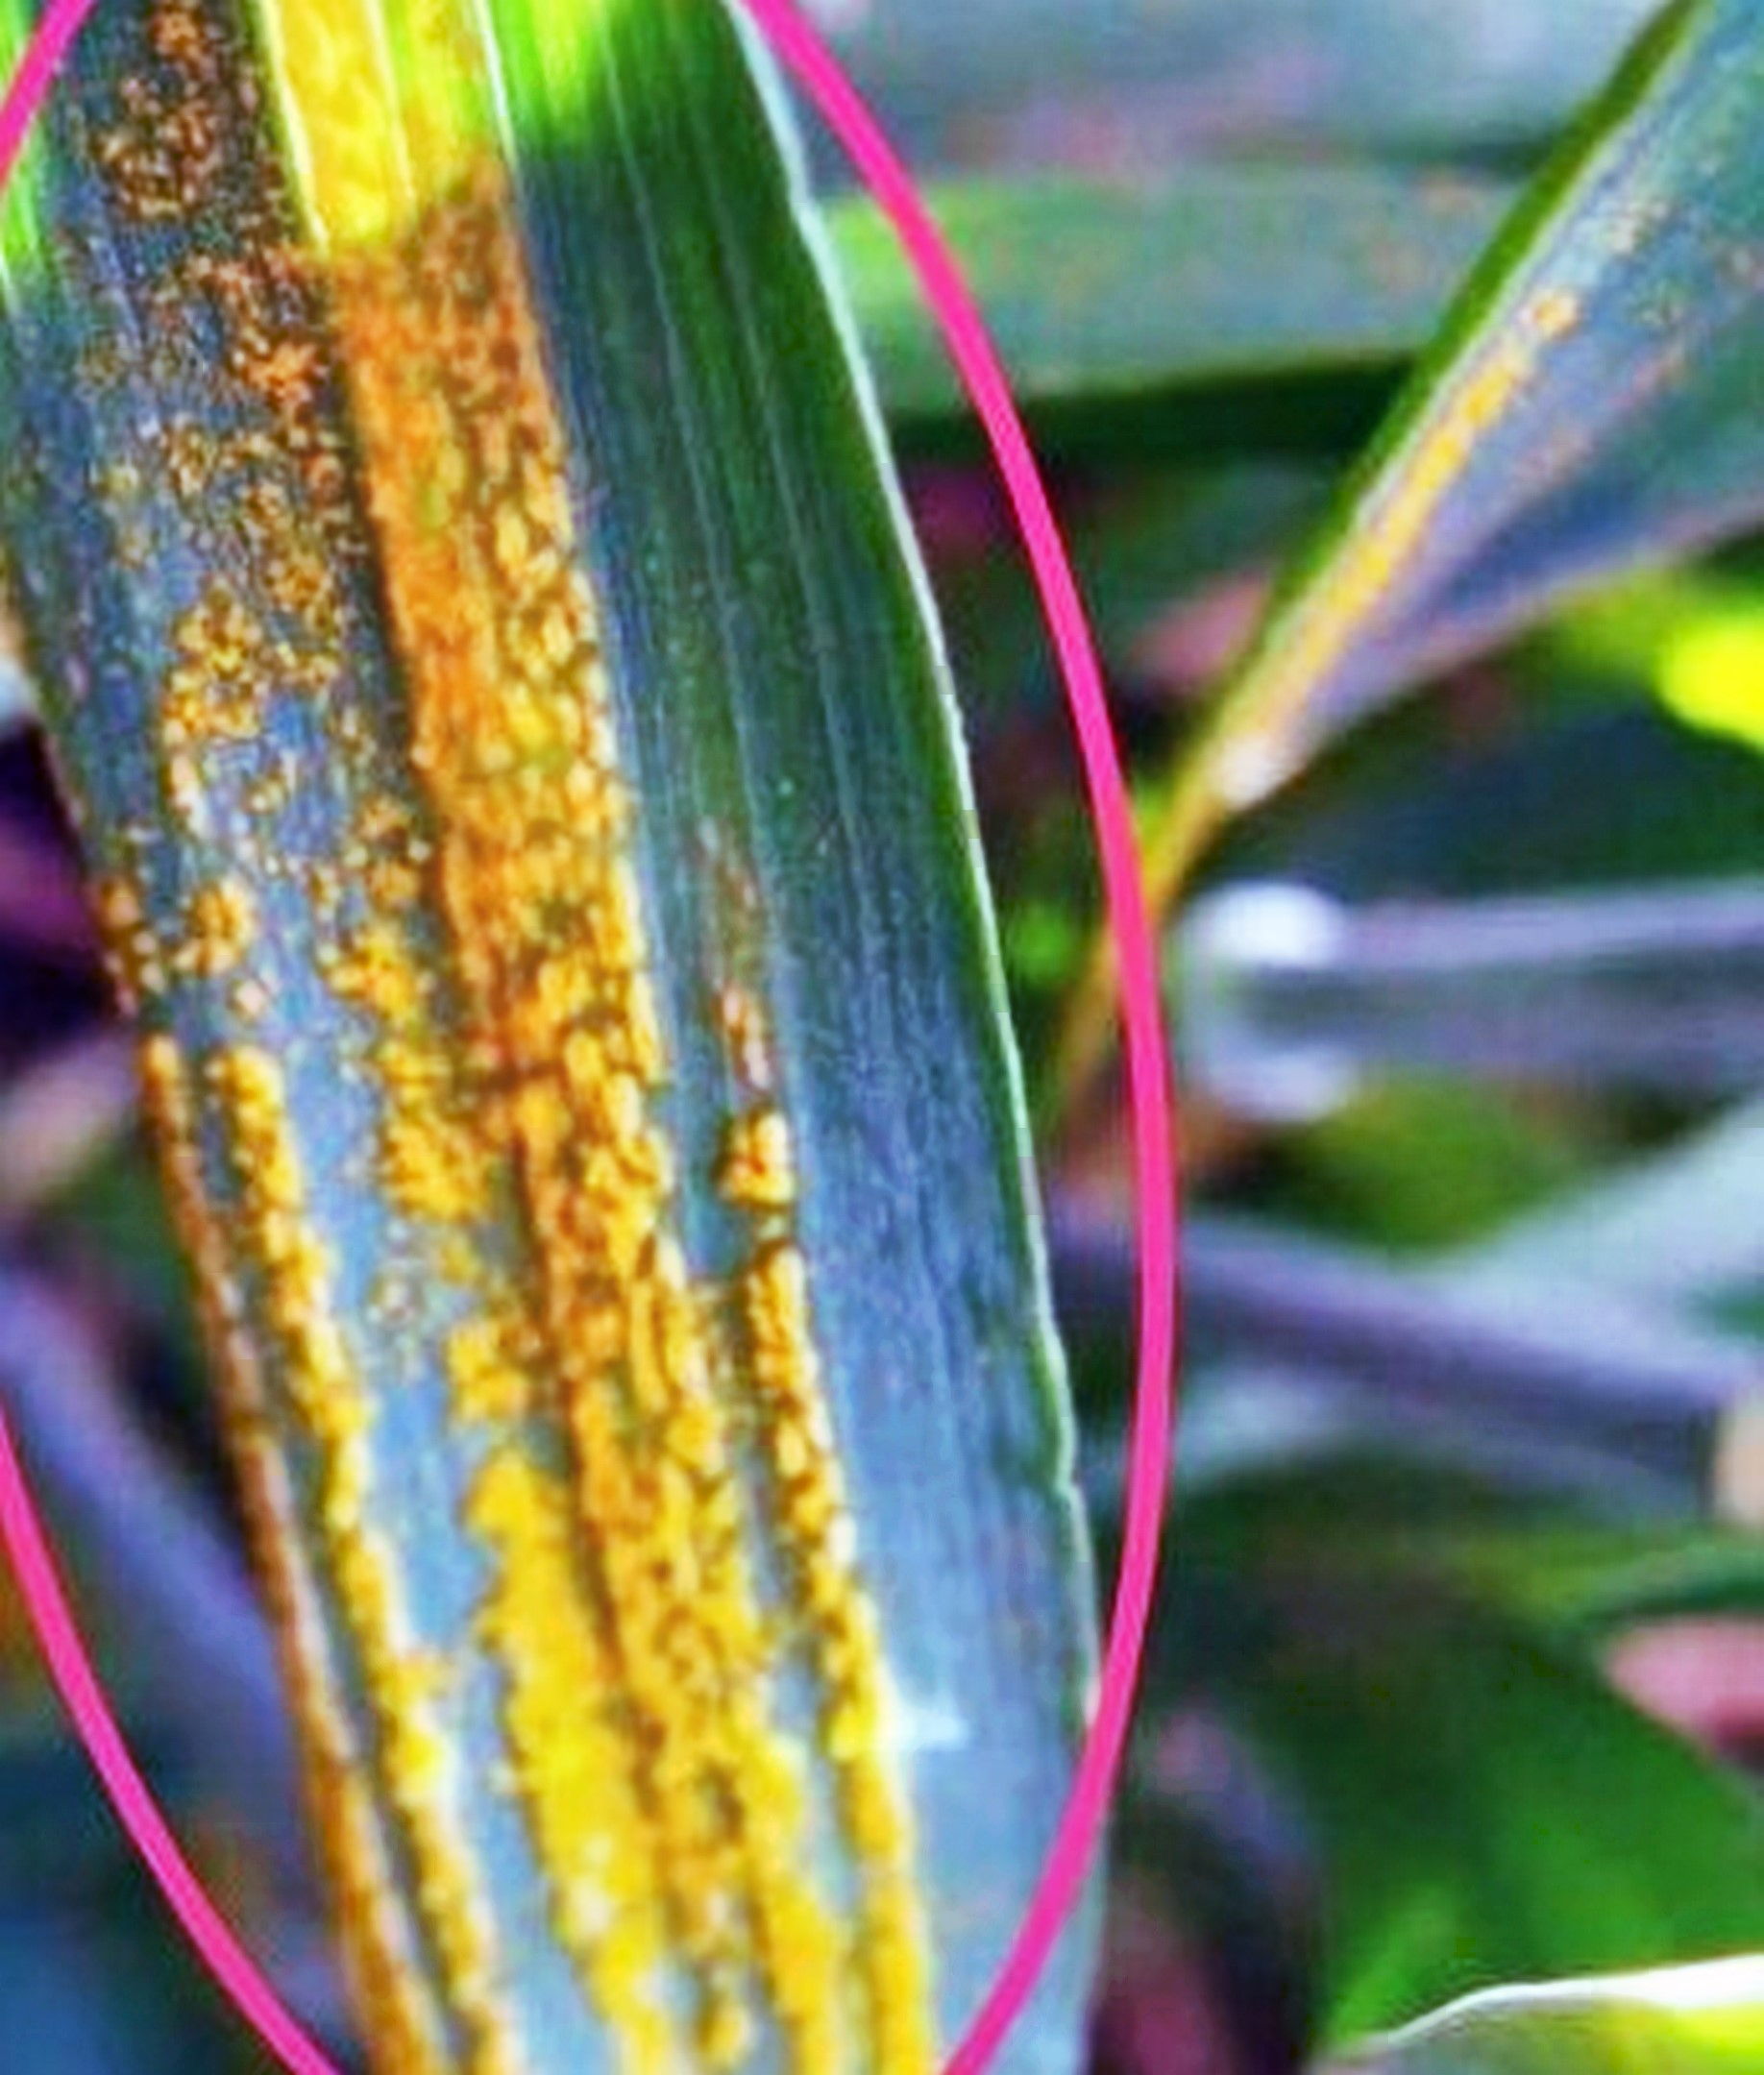Leaf Rust: (54, 224, 957, 1912)
